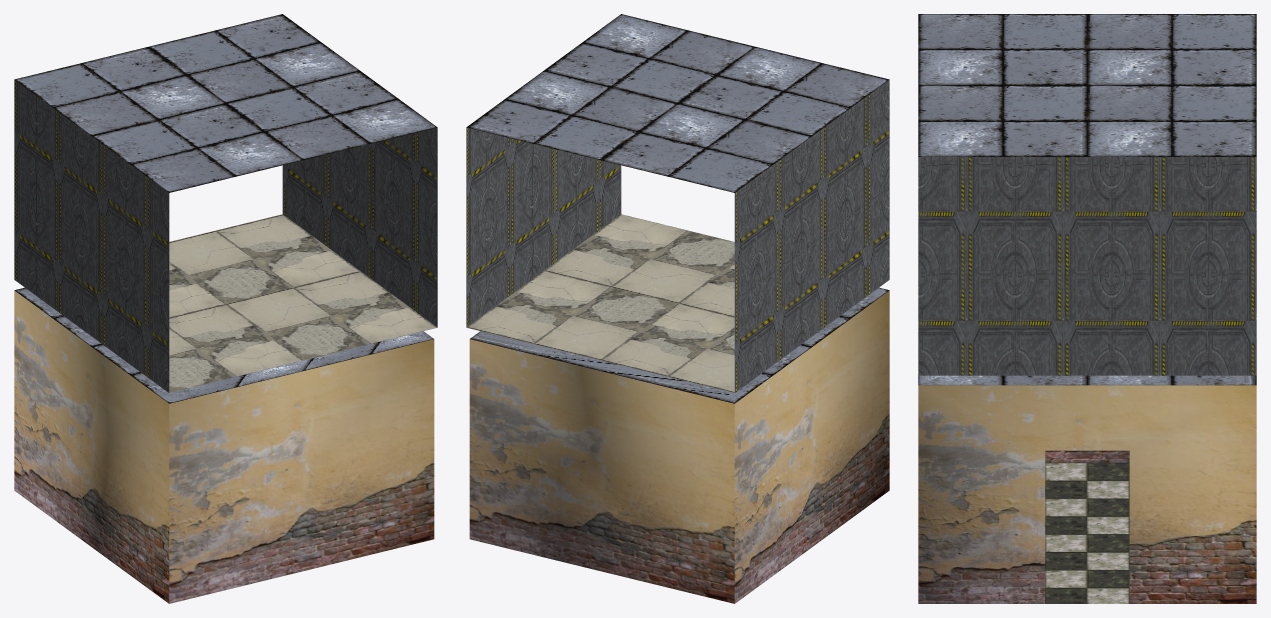
Rendered from Proval.fbx.
3 views of the same model, side by side, from view 1: azimuth 30°, elevation 25°; view 2: azimuth 150°, elevation 25°; view 3: azimuth 270°, elevation 25° (orthographic). The views are drawn at different scales.
Visible parts, largest first — view 1: Wals.5, Wals.2, Up.3, Kor_Pryam.Prowal, FRG, Up; view 2: Wals.5, Wals.2, Up.3, Kor_Pryam.Prowal, FRG, Up; view 3: Wals.2, Wals.5, Up.3, Rum, Up.
Part boxes in pixels (left/top/right/bottom): Wals.5: left=14, top=290, right=434, bottom=603; Wals.2: left=14, top=80, right=437, bottom=392; Up.3: left=14, top=14, right=437, bottom=192; Kor_Pryam.Prowal: left=169, top=214, right=437, bottom=392; FRG: left=169, top=238, right=362, bottom=366; Up: left=14, top=287, right=433, bottom=403; Wals.5: left=469, top=290, right=889, bottom=603; Wals.2: left=466, top=80, right=889, bottom=392; Up.3: left=466, top=14, right=889, bottom=192; Kor_Pryam.Prowal: left=466, top=214, right=734, bottom=392; FRG: left=524, top=246, right=734, bottom=361; Up: left=470, top=287, right=889, bottom=403; Wals.2: left=918, top=157, right=1256, bottom=375; Wals.5: left=918, top=385, right=1256, bottom=603; Up.3: left=918, top=14, right=1256, bottom=156; Rum: left=1045, top=462, right=1129, bottom=603; Up: left=918, top=375, right=1256, bottom=385.
Bounding box in the file's own units: 400 × 585 × 400.
